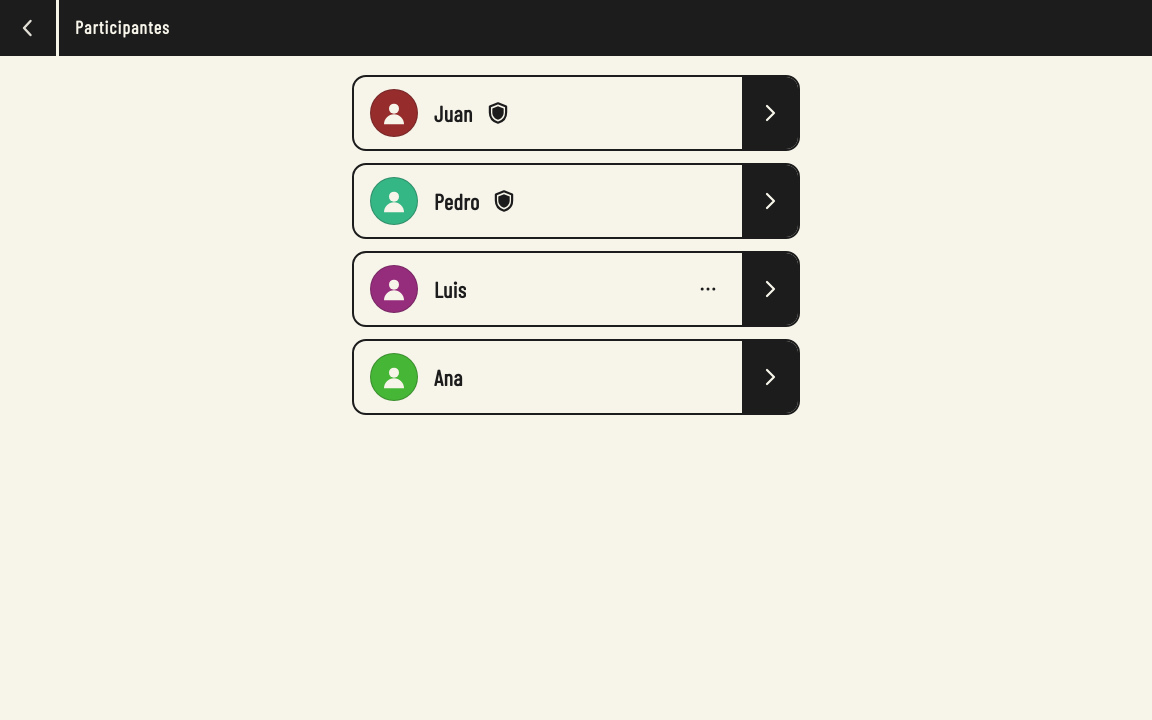
Test: ParticipantsScreen (administración) › un integrante común solo ve el menú de su propia tarjeta, sin acciones de administración
Expected: the link "Juan" is shown, [370,89,511,137]
Click the button named "Opciones de Luis" at (708, 289), box [686,267,730,311]
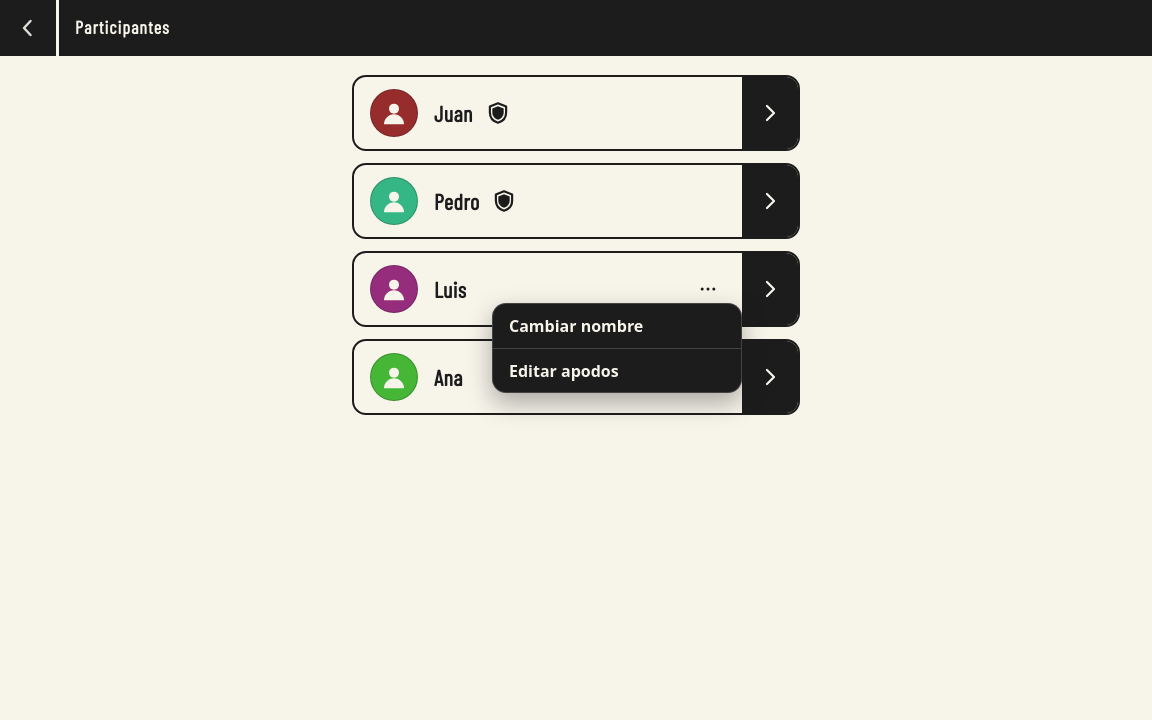
Expected: the menu item "Cambiar nombre" is shown, [493,304,741,348]
Expected: the menu item "Editar apodos" is shown, [493,348,741,392]
